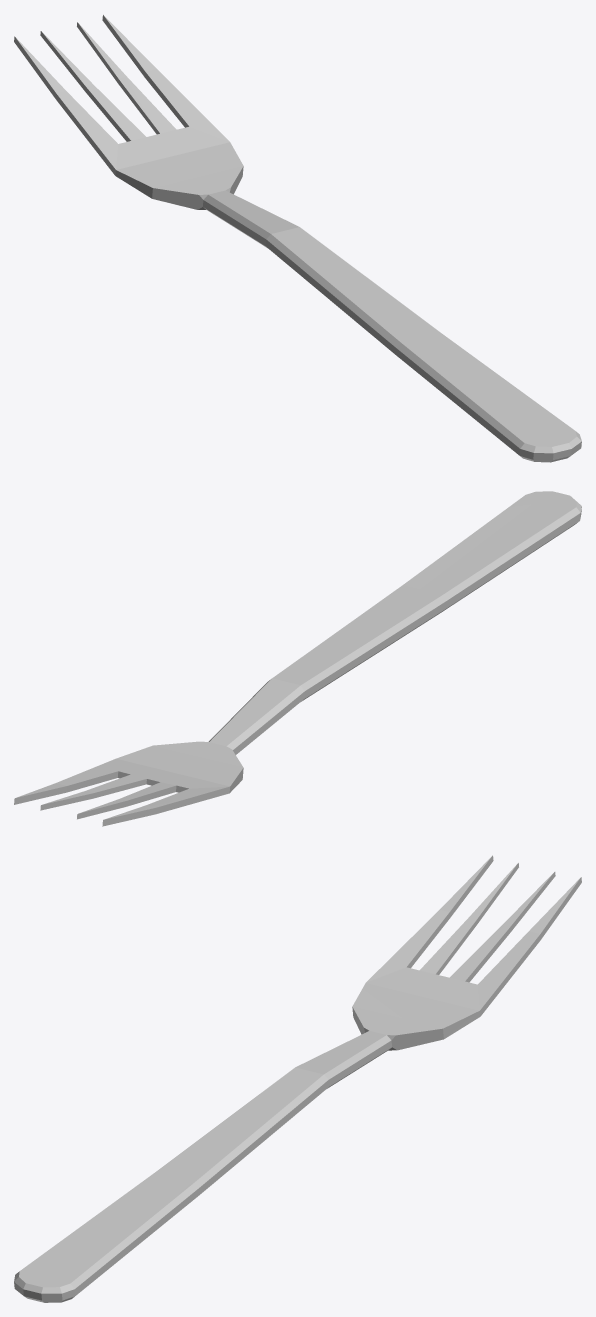
The model's file is R_Fork.fbx.
3 renders of one model, top to bottom at view 1: azimuth 30°, elevation 25°; view 2: azimuth 150°, elevation 25°; view 3: azimuth 330°, elevation 25°, orthographic.
Visible parts, largest first — view 1: R_Fork; view 2: R_Fork; view 3: R_Fork.
Part boxes in pixels (x1,y1,x2,y2): R_Fork: [14, 15, 581, 462]; R_Fork: [14, 491, 581, 826]; R_Fork: [14, 855, 581, 1302].
Size of the model in its own units: 18.47 by 141 by 10.58.
